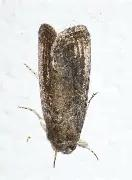army worm adult: (20, 16, 111, 174)
